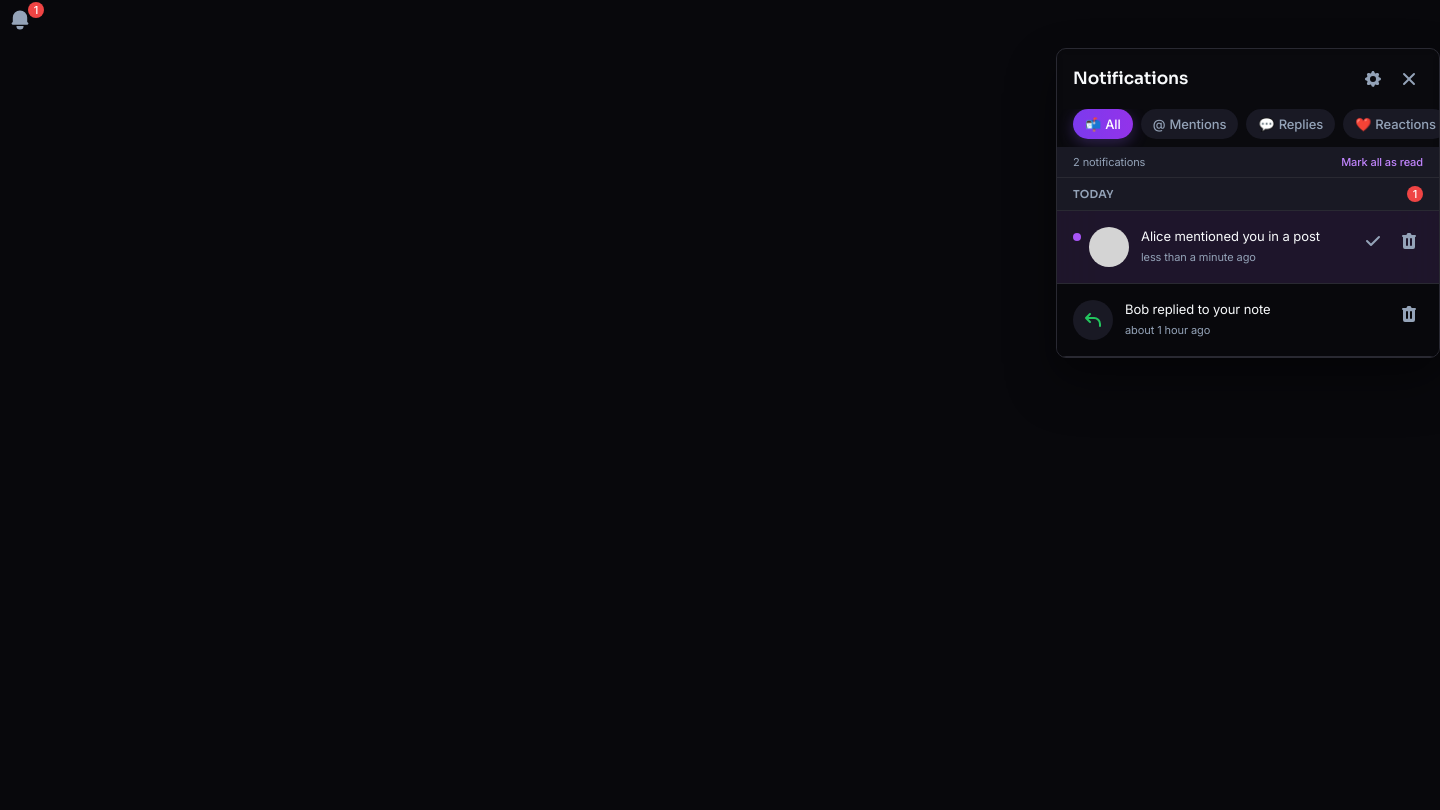
Test: NotificationCenter › Interactions › should open settings panel
What coordinates should you click on to do the following:
click the button named "settings"
I would click on:
 (1373, 79)
Its box is [1359,65,1387,93].
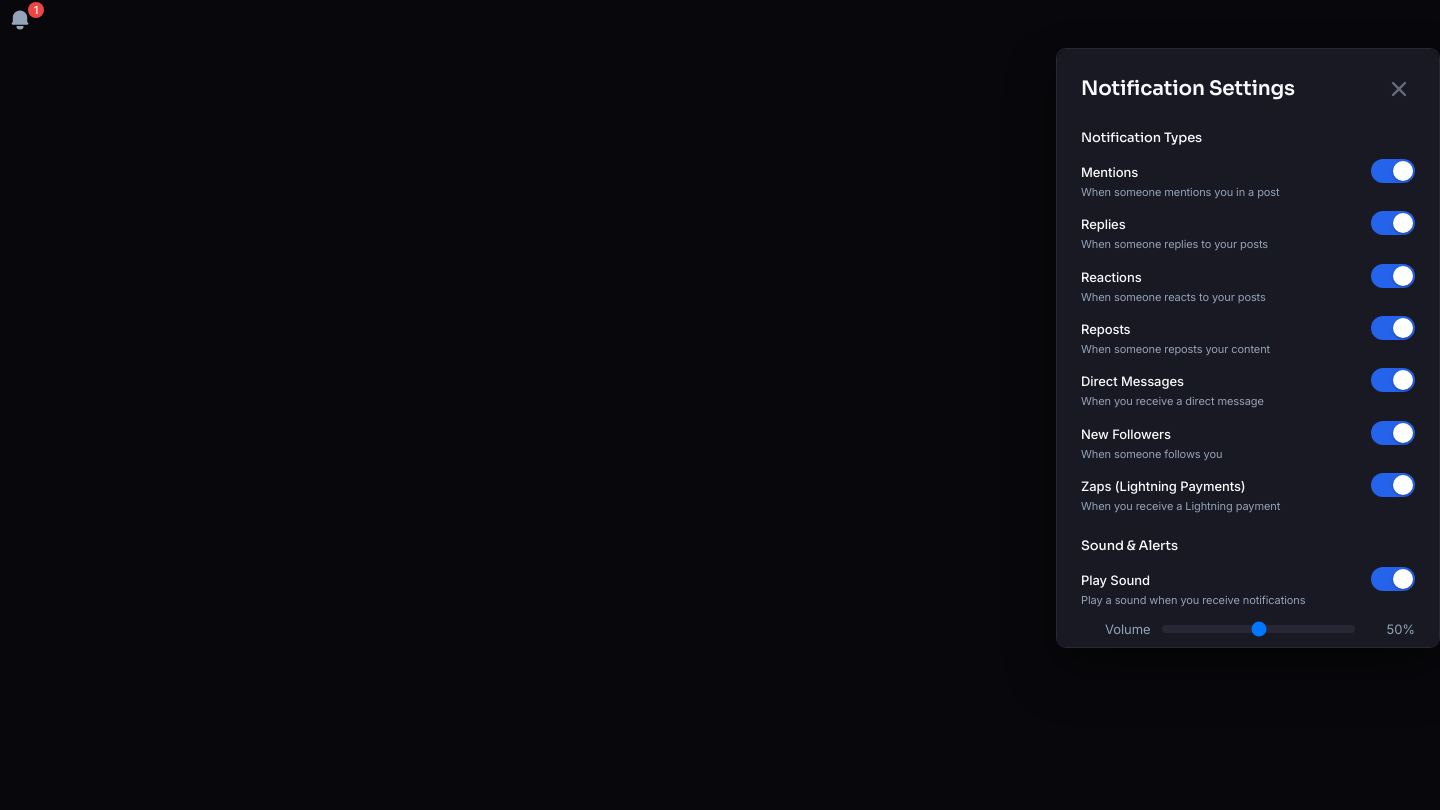
Now the heading "Notification Settings" is shown, box [1081,75,1295,103]
